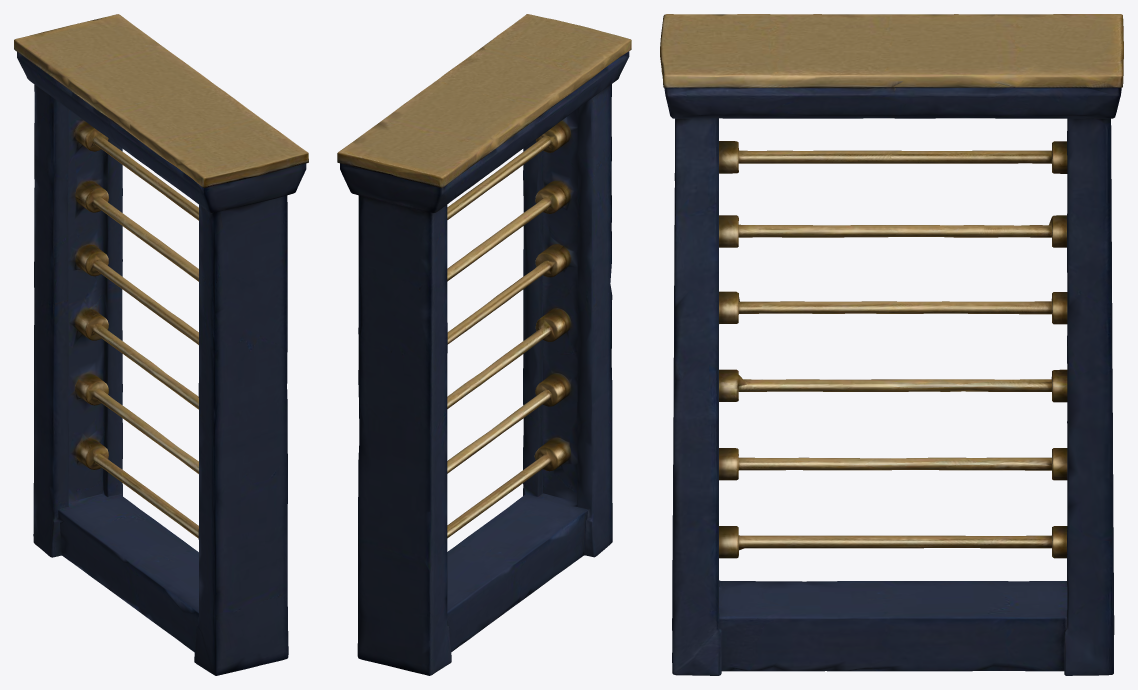
File: abacus.glb
The picture shows the model from 3 angles, left to right: view 1: azimuth 30°, elevation 25°; view 2: azimuth 150°, elevation 25°; view 3: azimuth 270°, elevation 25°; orthographic projection. The views are drawn at different scales.
Parts seen in each view (by area): view 1: tripo_node_1b19fc2e-7256-4f55-9b3c-2612cdc2e8ff; view 2: tripo_node_1b19fc2e-7256-4f55-9b3c-2612cdc2e8ff; view 3: tripo_node_1b19fc2e-7256-4f55-9b3c-2612cdc2e8ff.
Part boxes in pixels (left/top/right/bottom): tripo_node_1b19fc2e-7256-4f55-9b3c-2612cdc2e8ff: left=14, top=14, right=308, bottom=675; tripo_node_1b19fc2e-7256-4f55-9b3c-2612cdc2e8ff: left=337, top=14, right=631, bottom=675; tripo_node_1b19fc2e-7256-4f55-9b3c-2612cdc2e8ff: left=660, top=14, right=1123, bottom=675.
Bounding box in the file's own units: 0.2192 × 1 × 0.6885.
1 material, 1 textured.
